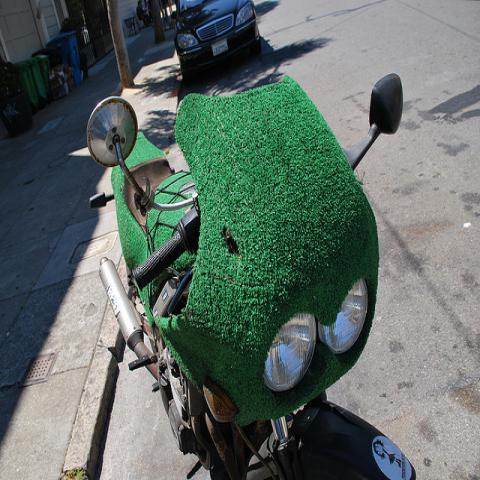car: (175, 1, 264, 92)
motorcycle: (84, 74, 380, 474), (270, 73, 417, 474)
